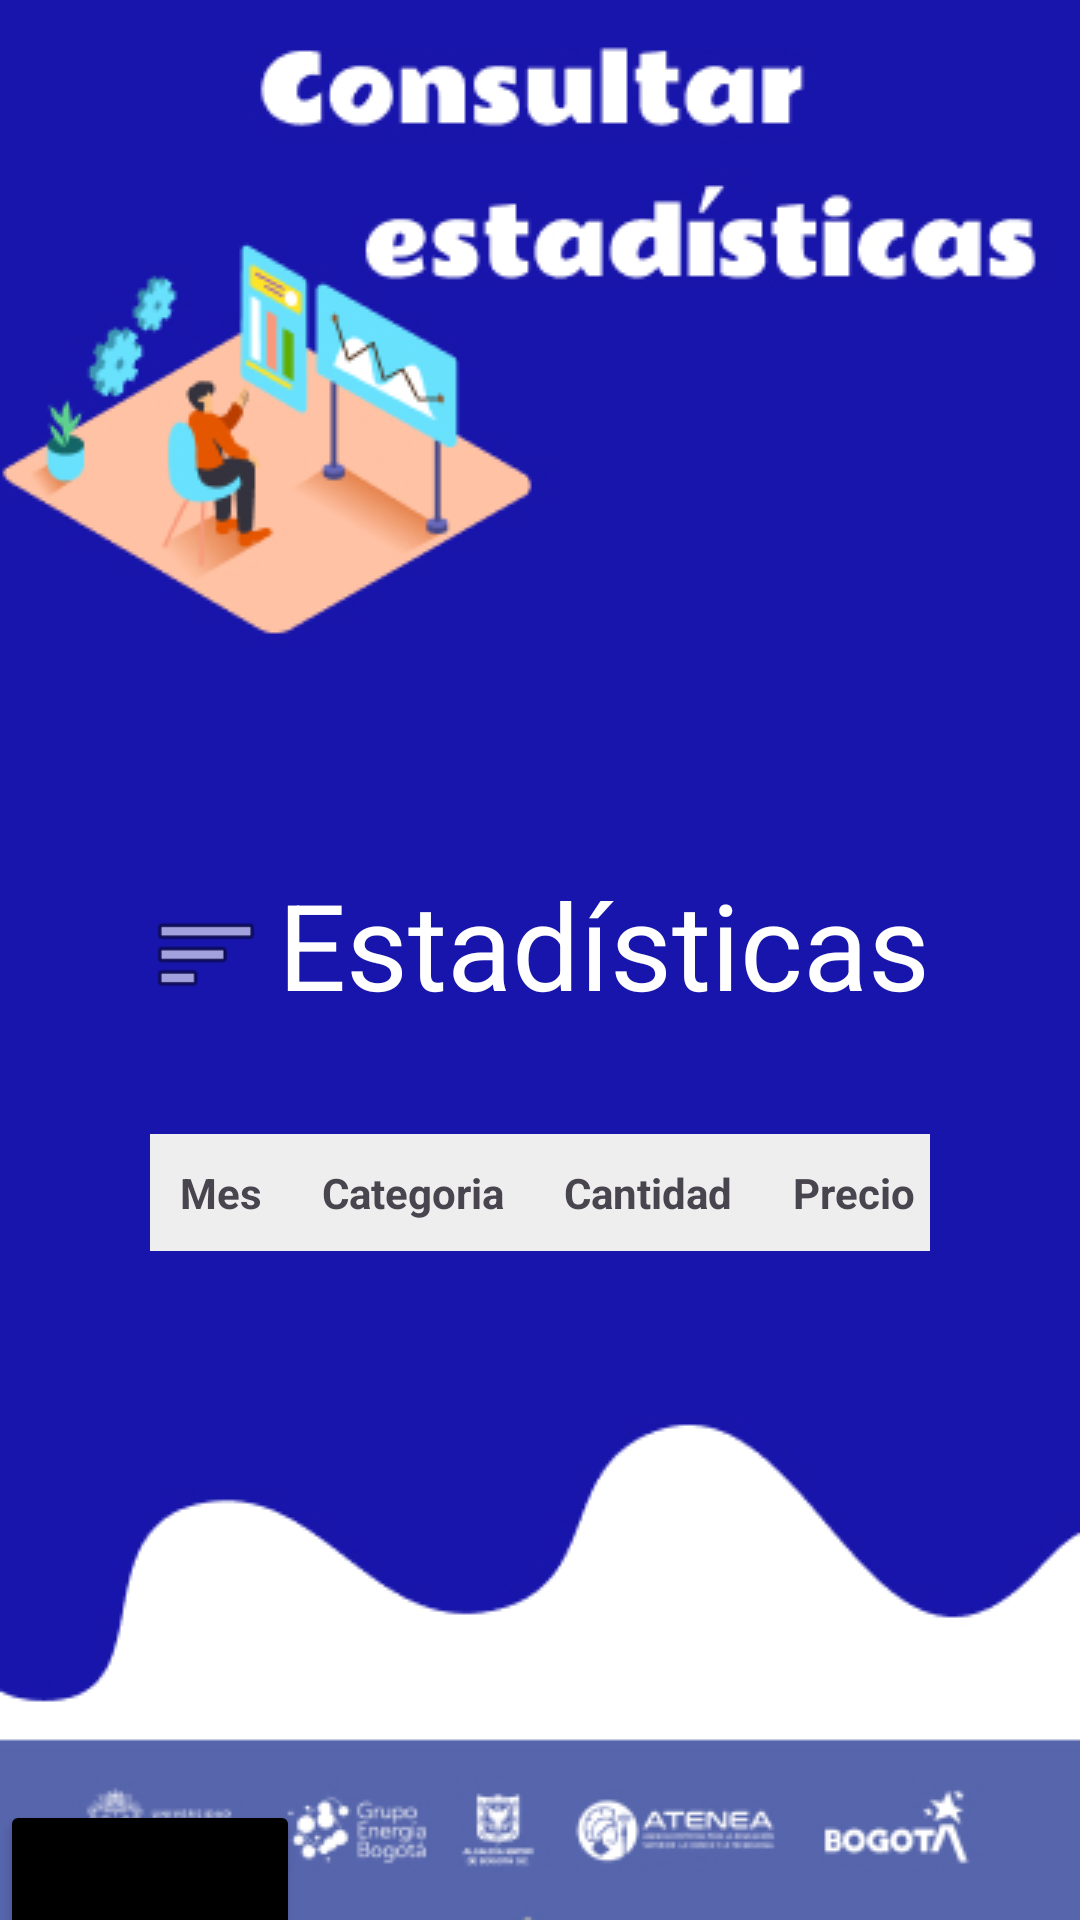

Where to tap for icons on this 1080w x 1920h app screen, as (x=x, y=y):
sort by size: (x=206, y=954)
